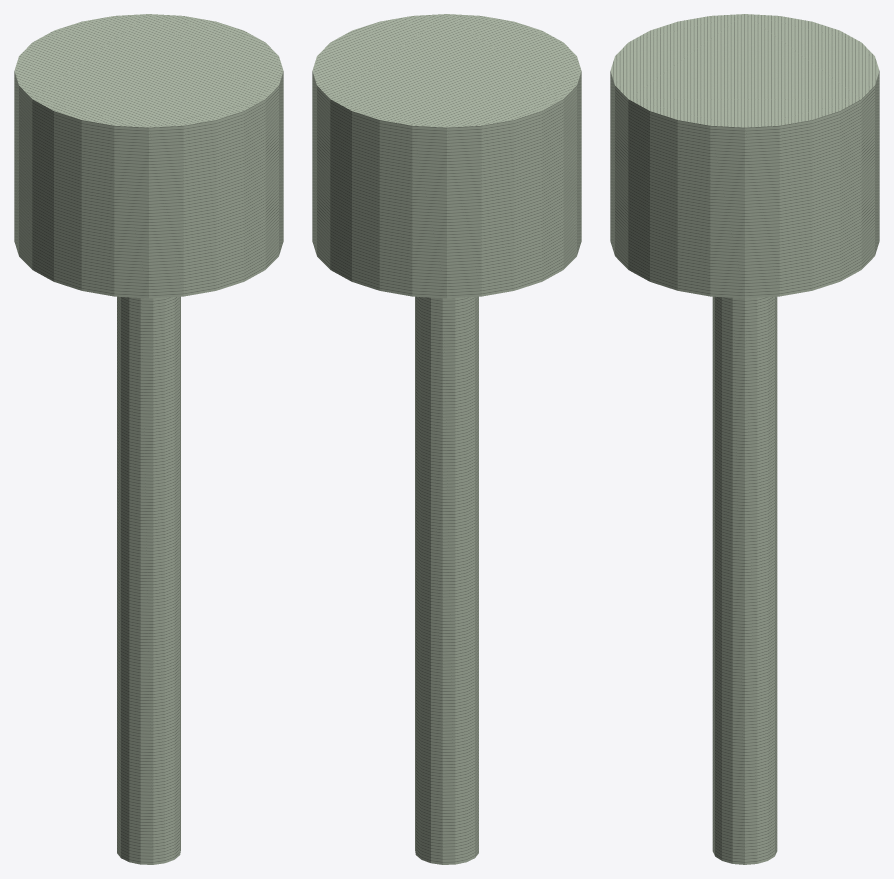
File: water_tower.glb
3 renders of one model, left to right at view 1: azimuth 30°, elevation 25°; view 2: azimuth 150°, elevation 25°; view 3: azimuth 270°, elevation 25°, orthographic.
Visible parts, largest first — view 1: water_tower-col; view 2: water_tower-col; view 3: water_tower-col.
Part boxes in pixels (x1=…): water_tower-col: x1=14, y1=14, x2=283, y2=864; water_tower-col: x1=312, y1=14, x2=581, y2=864; water_tower-col: x1=610, y1=14, x2=879, y2=864.
Bounding box in the file's own units: 10 × 32 × 10.
Materials: 1 (1 with a texture image).
